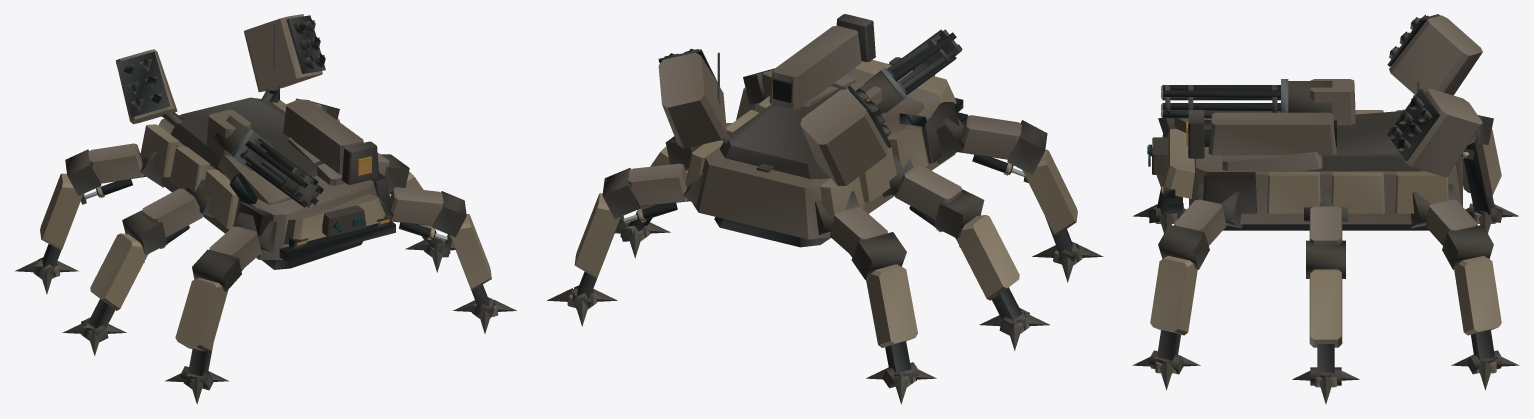
3 renders of one model, left to right at view 1: azimuth 30°, elevation 25°; view 2: azimuth 150°, elevation 25°; view 3: azimuth 270°, elevation 25°, orthographic. The views are drawn at different scales.
Visible parts, largest first — view 1: MX06_STATIC; view 2: MX06_STATIC; view 3: MX06_STATIC.
Boxes of the visible parts, left/top/right/bottom form: MX06_STATIC: left=15, top=14, right=516, bottom=404; MX06_STATIC: left=547, top=14, right=1103, bottom=404; MX06_STATIC: left=1132, top=14, right=1519, bottom=403.
Bounding box in the file's own units: 6.74 × 3.81 × 5.45.
